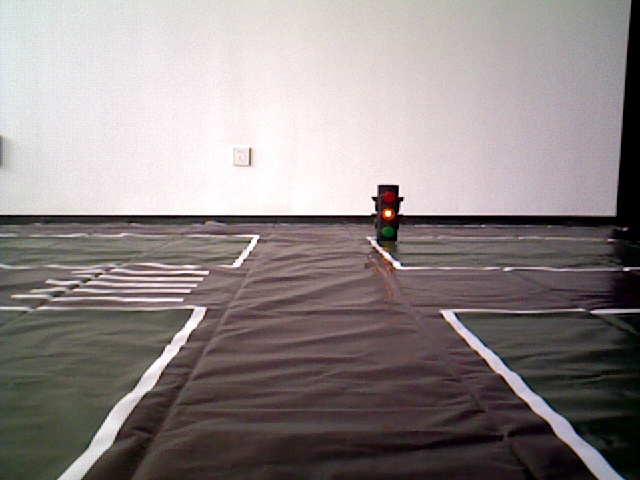yellow: (373, 182, 402, 242)
